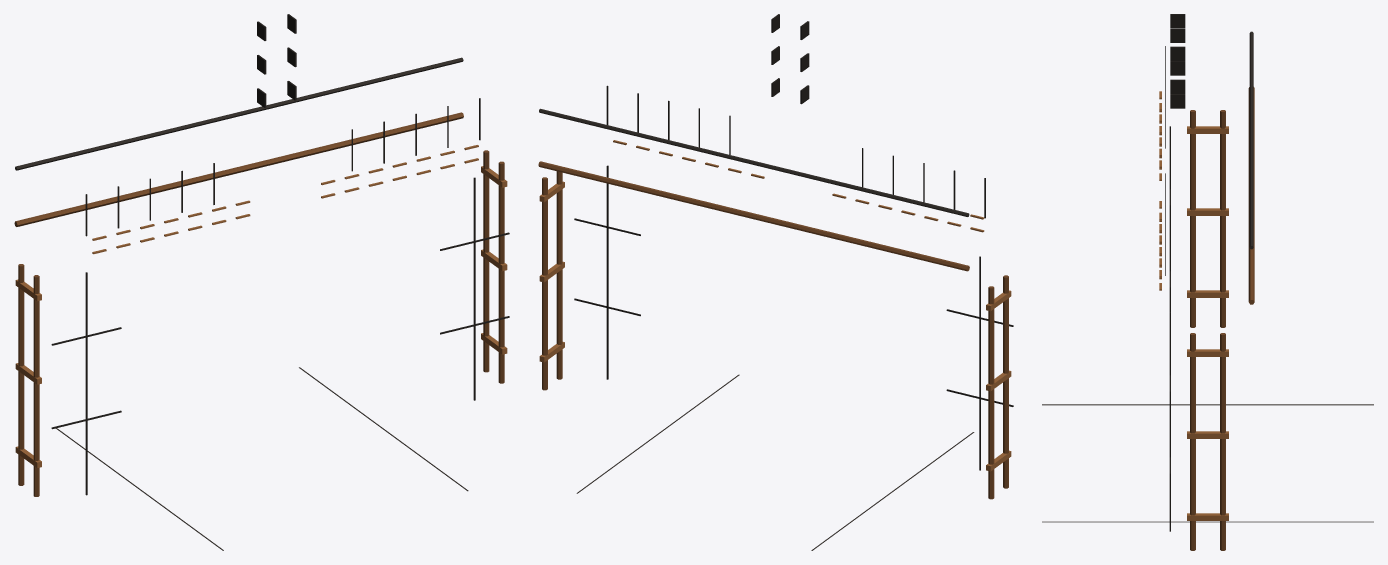
Rendered from camp_launch_gate_detail2.glb.
The picture shows the model from 3 angles, left to right: view 1: azimuth 30°, elevation 25°; view 2: azimuth 150°, elevation 25°; view 3: azimuth 270°, elevation 25°; orthographic projection. The views are drawn at different scales.
Visible parts, largest first — view 1: Body; view 2: Body; view 3: Body.
Part boxes in pixels (left/top/right/bottom): Body: left=14, top=14, right=509, bottom=550; Body: left=538, top=14, right=1013, bottom=550; Body: left=1042, top=14, right=1373, bottom=550.
Bounding box in the file's own units: 17.68 × 16.17 × 11.
